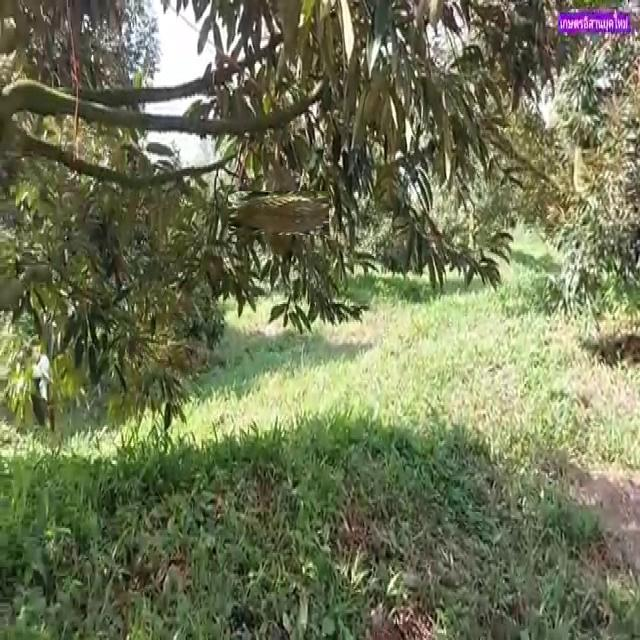durian: (241, 177, 315, 250)
